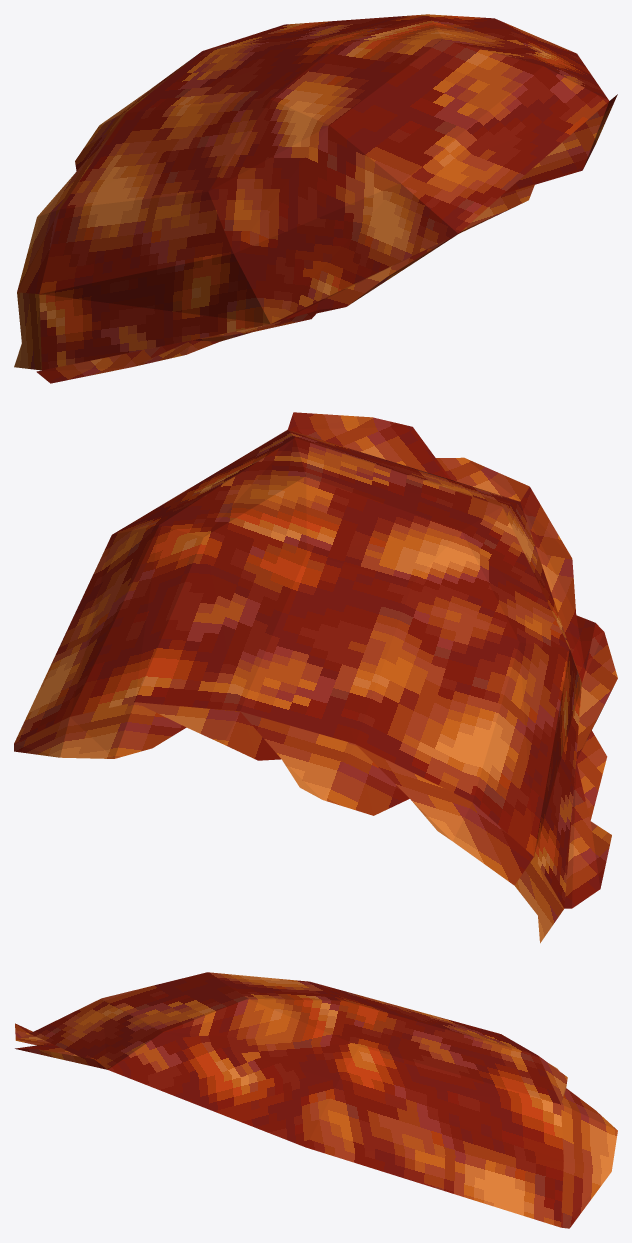
3 renders of one model, top to bottom at view 1: azimuth 30°, elevation 25°; view 2: azimuth 150°, elevation 25°; view 3: azimuth 270°, elevation 25°, orthographic. The views are drawn at different scales.
Parts seen in each view (by area): view 1: 1354item2744r; view 2: 1354item2744r; view 3: 1354item2744r.
Part boxes in pixels (box(x1,y1,x2,y2)): 1354item2744r: box(14, 14, 617, 383); 1354item2744r: box(14, 412, 617, 943); 1354item2744r: box(15, 972, 617, 1228).
Size of the model in its own units: 0.1192 by 0.0711 by 0.1294.
Materials: 1 (1 with a texture image).
